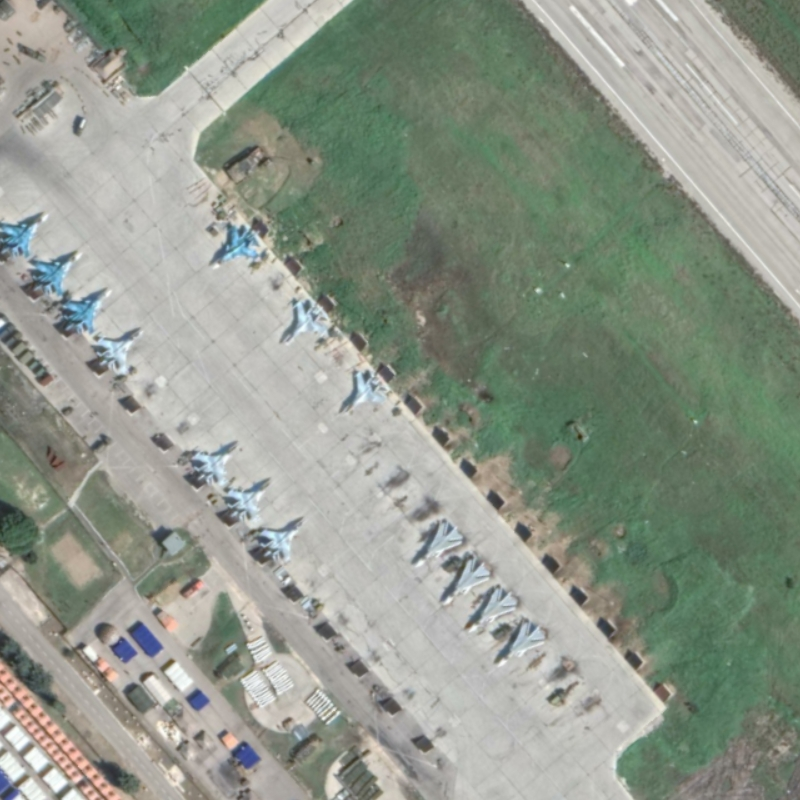A1: (247, 514, 308, 566), (90, 326, 146, 377), (189, 440, 243, 489), (279, 297, 330, 348), (218, 477, 274, 523), (340, 365, 389, 414)
A19: (55, 286, 114, 338), (206, 220, 264, 272), (26, 248, 84, 300), (1, 208, 51, 259)
A20: (490, 617, 551, 670), (437, 553, 493, 609), (463, 581, 520, 636), (407, 516, 465, 569)
